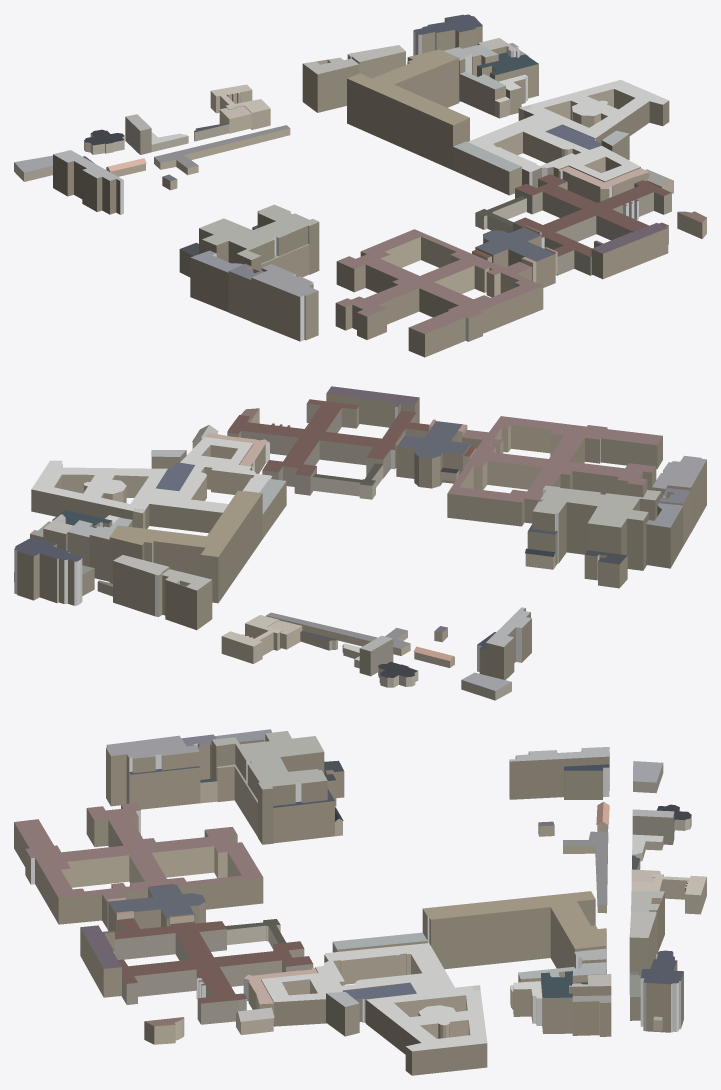
3 renders of one model, top to bottom at view 1: azimuth 30°, elevation 25°; view 2: azimuth 150°, elevation 25°; view 3: azimuth 270°, elevation 25°, orthographic. The views are drawn at different scales.
Parts seen in each view (by area): view 1: tuile; view 2: tuile; view 3: tuile.
Part boxes in pixels (x1,y1,x2,y2): tuile: (14, 14, 706, 357); tuile: (14, 386, 706, 700); tuile: (14, 729, 706, 1075).
Bounding box in the file's own units: 300 × 31.43 × 291.
